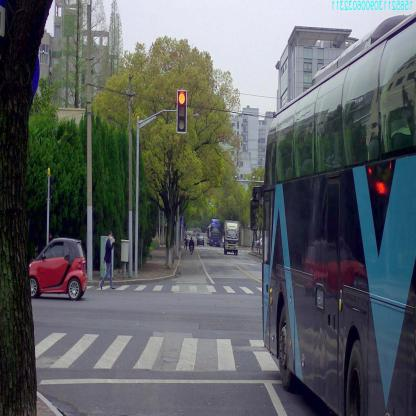traffic-light: (177, 90, 187, 133)
